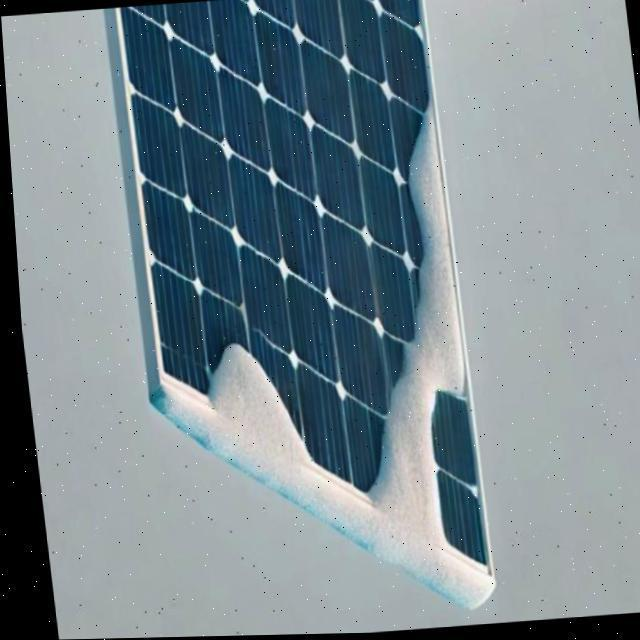Anomaly Solar Panel: (120, 0, 484, 597)
Snow: (356, 91, 501, 550), (183, 335, 319, 501)
